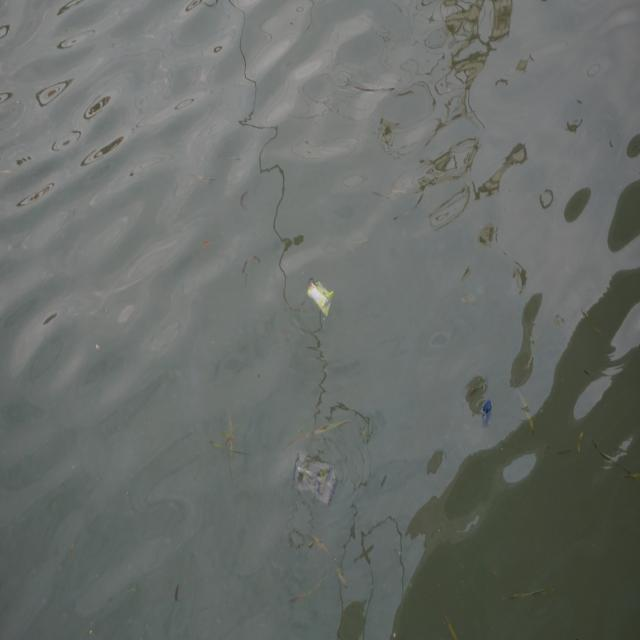Bungkus Makanan: (292, 448, 339, 508), (304, 271, 337, 321)
Kantong Plastik: (480, 396, 494, 432)
